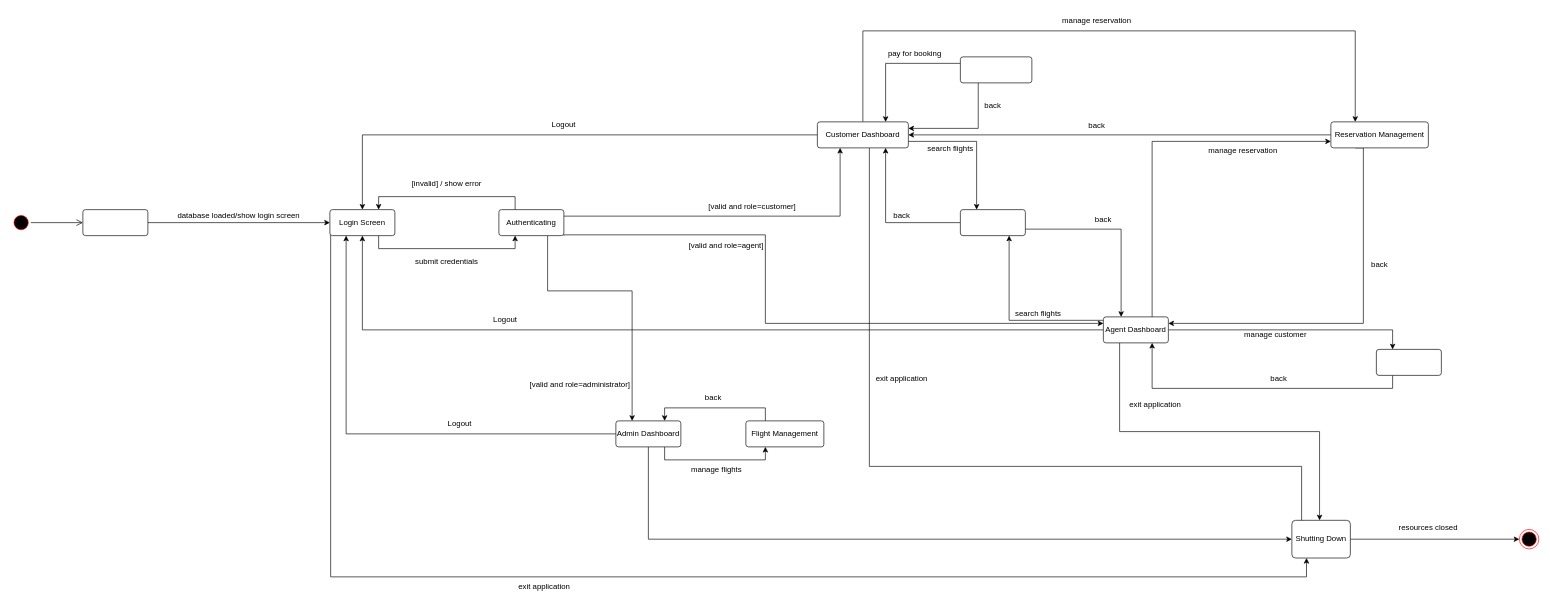
Image size: 1550x607. Some labels were removed from this diagram. The centre of each missing label's shape, as x and y in pixels:
Customer Management: point (1408, 362)
Flight Search: point (992, 222)
Initializing: point (115, 222)
Payment Interface: point (996, 69)
